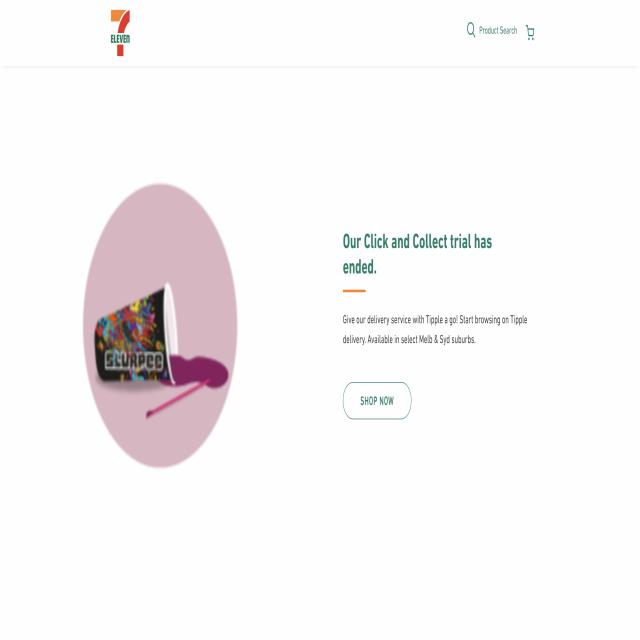Logo: (102, 0, 142, 70)
